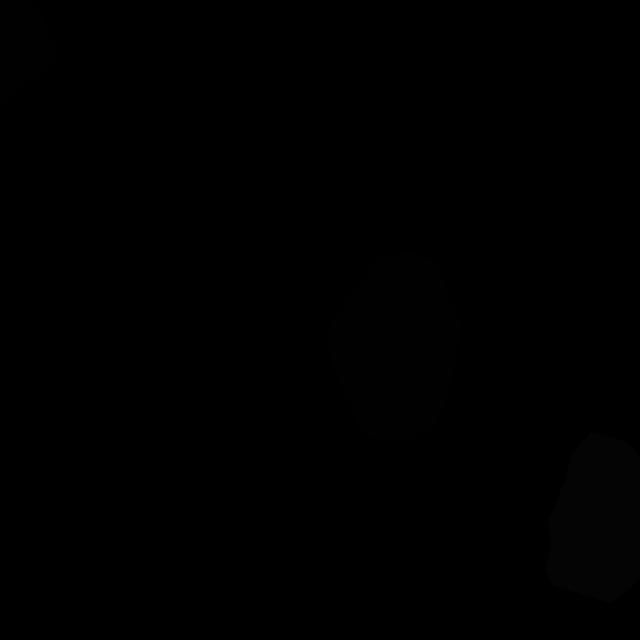rigid_plastic: (329, 252, 461, 442)
soft_plastic: (546, 432, 640, 603)
